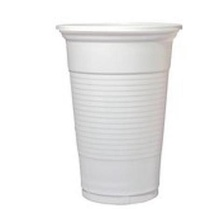glass: (45, 13, 189, 211)
